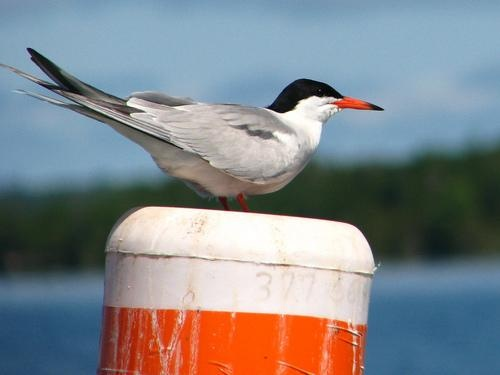bird: (4, 49, 386, 212)
